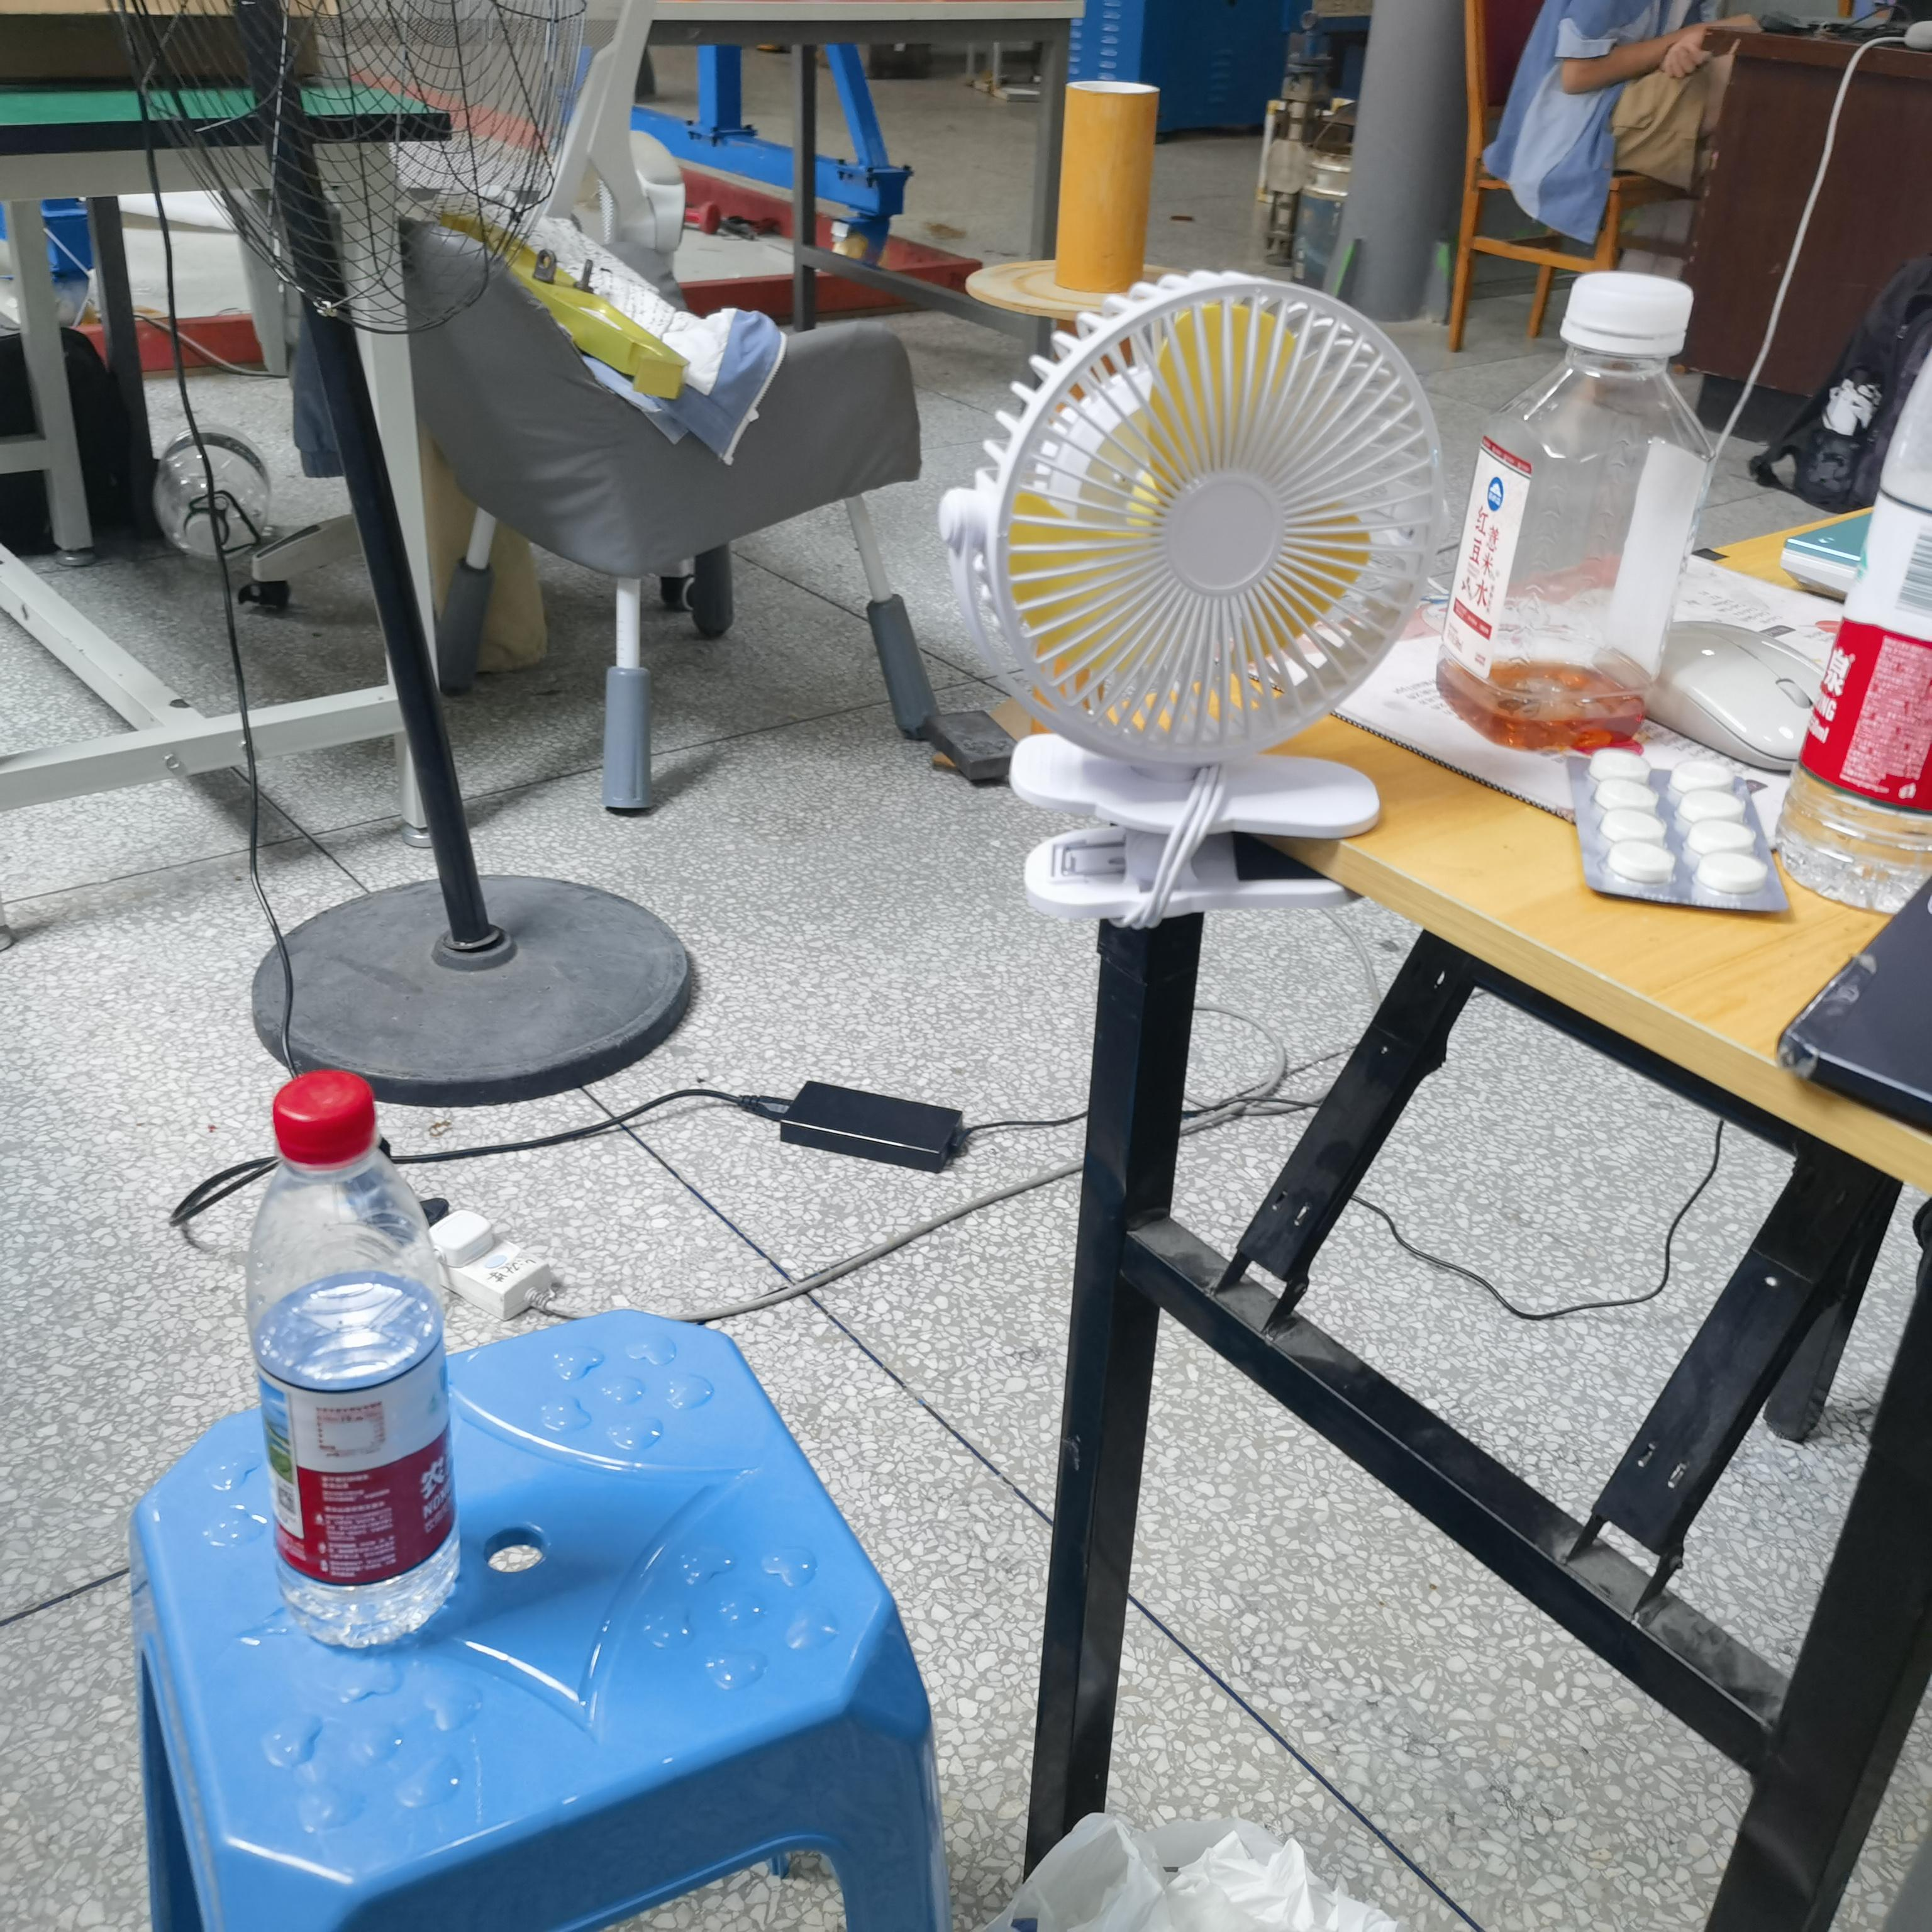bottle: (239, 1062, 481, 1672)
fan: (938, 258, 1461, 938)
